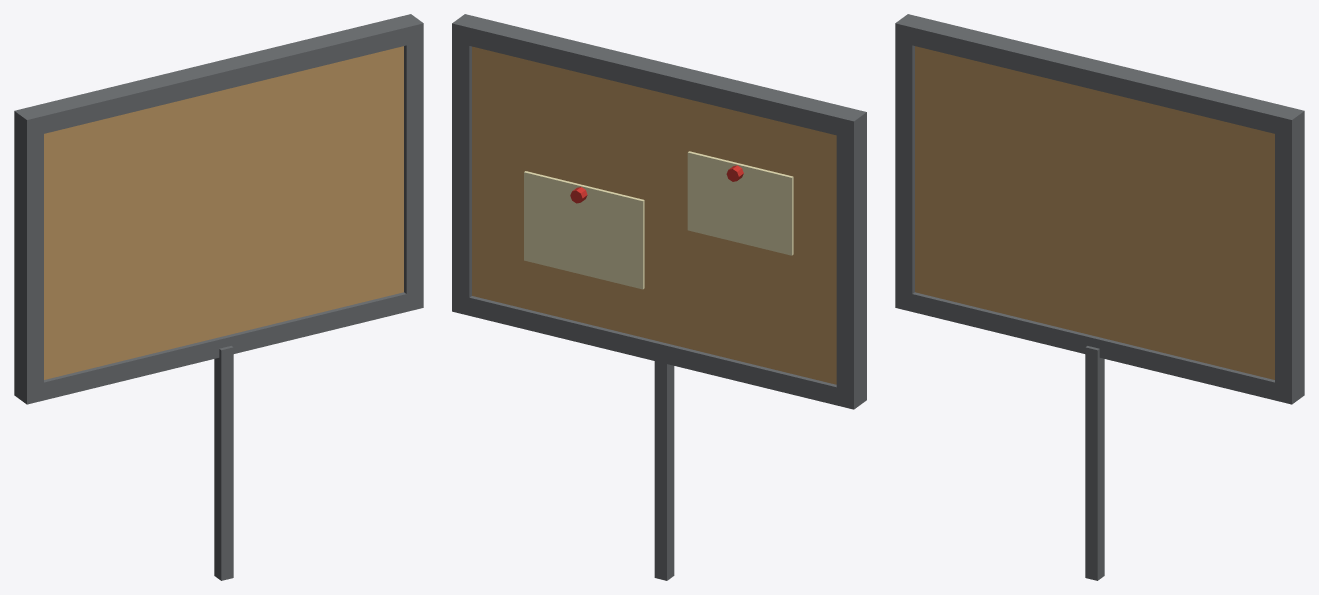
The model's file is HomebasePinboard_LOD00.gltf.
3 views of the same model, side by side, from view 1: azimuth 30°, elevation 25°; view 2: azimuth 150°, elevation 25°; view 3: azimuth 330°, elevation 25° (orthographic).
Visible parts, largest first — view 1: HomebasePinboard_node; view 2: HomebasePinboard_node; view 3: HomebasePinboard_node.
Part boxes in pixels (bbox=[...]): HomebasePinboard_node: bbox=[14, 14, 423, 580]; HomebasePinboard_node: bbox=[452, 14, 866, 580]; HomebasePinboard_node: bbox=[895, 14, 1304, 580].
Bounding box in the file's own units: 1.62 × 1.98 × 0.155.
